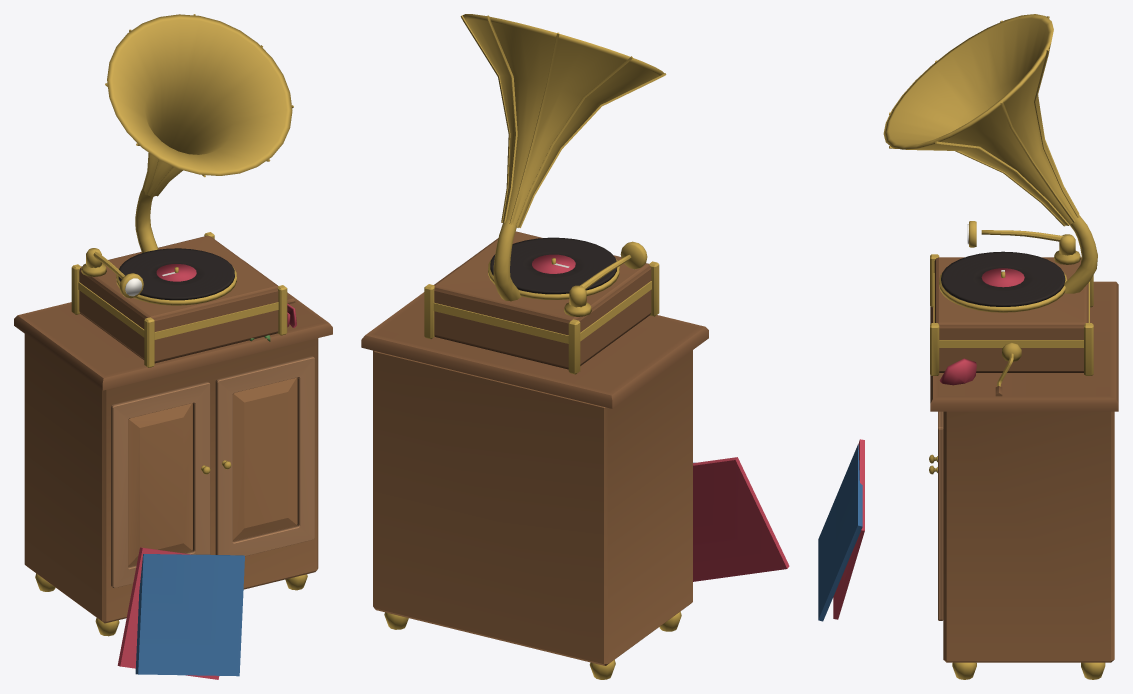
File: gramophone.glb
3 views of the same model, side by side, from view 1: azimuth 30°, elevation 25°; view 2: azimuth 150°, elevation 25°; view 3: azimuth 270°, elevation 25° (orthographic). The views are drawn at different scales.
Visible parts, largest first — view 1: body, platter, tone_arm; view 2: body, platter, tone_arm; view 3: body, platter, tone_arm.
Boxes of the visible parts, x1,y1,x2,y2 form: body: (14,14,332,679); platter: (116,248,236,305); tone_arm: (86,248,143,298); body: (361,14,789,679); platter: (488,237,619,299); tone_arm: (569,241,647,307); body: (818,14,1118,679); platter: (939,251,1067,312); tone_arm: (967,221,1075,255).
Size of the model in its own units: 0.7416 by 1.58 by 0.7021.
